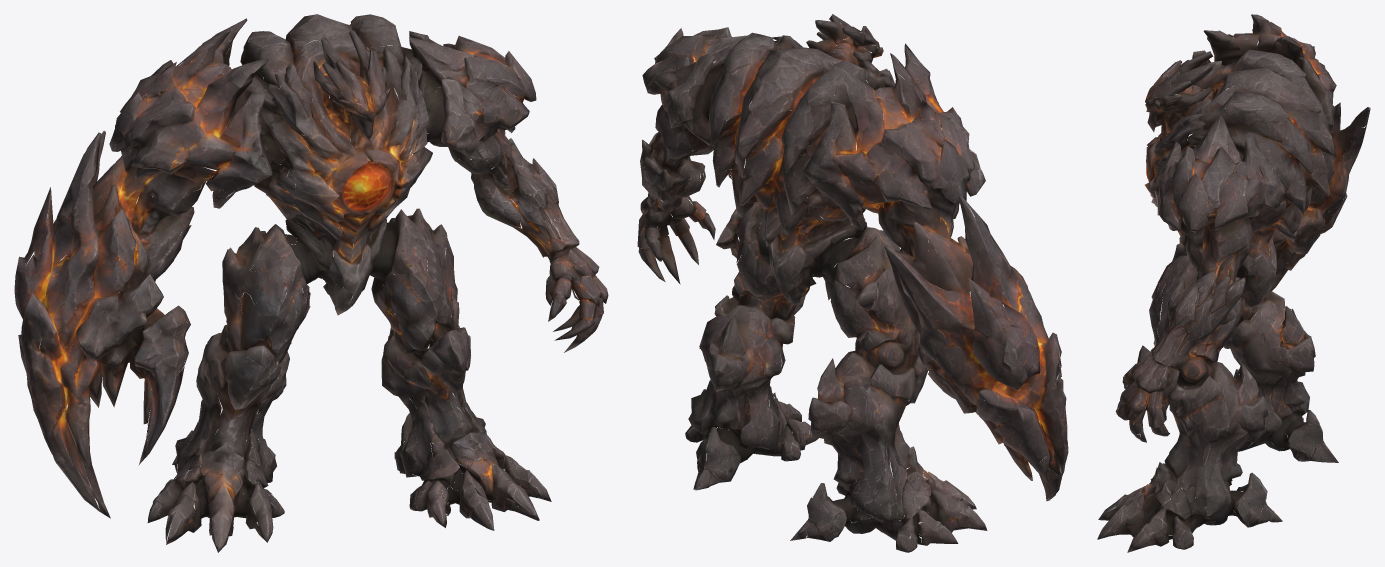
Rendered from alien-boss-v1.glb.
The picture shows the model from 3 angles, left to right: view 1: azimuth 30°, elevation 25°; view 2: azimuth 150°, elevation 25°; view 3: azimuth 270°, elevation 25°; orthographic projection. The views are drawn at different scales.
Parts seen in each view (by area): view 1: alien-boss; view 2: alien-boss; view 3: alien-boss.
Boxes of the visible parts, x1,y1,x2,y2 form: alien-boss: (14,14,608,552); alien-boss: (637,14,1068,552); alien-boss: (1097,14,1370,552).
Size of the model in its own units: 4.58 by 4.2 by 2.42.
1 material, 1 textured.
